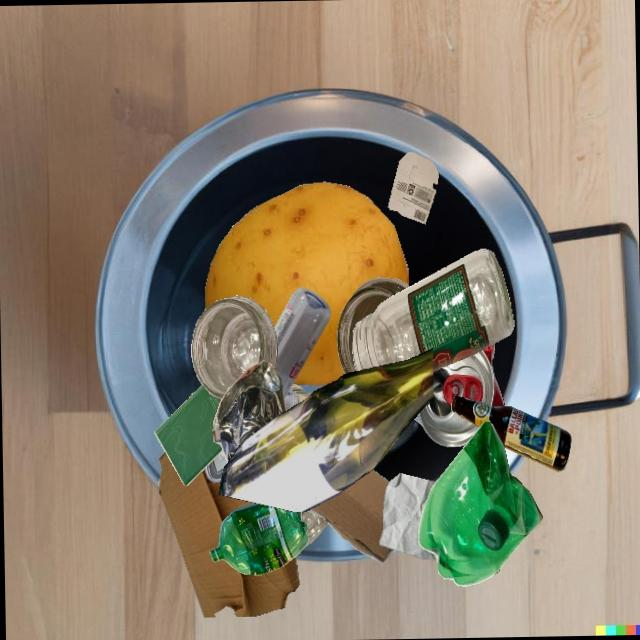biowaste: (205, 182, 407, 385)
cardboard: (158, 452, 299, 617), (307, 469, 393, 563)
glass: (218, 348, 434, 512), (352, 248, 514, 371), (451, 395, 571, 471), (191, 295, 277, 399), (336, 277, 409, 373), (301, 510, 329, 545), (289, 383, 309, 404)
metal: (413, 343, 505, 448), (212, 360, 285, 462)
paper: (154, 384, 222, 485), (379, 473, 437, 561), (387, 152, 438, 223)
plastic: (418, 420, 542, 586), (209, 502, 309, 574), (273, 287, 331, 398), (204, 450, 227, 482), (283, 388, 297, 410)
